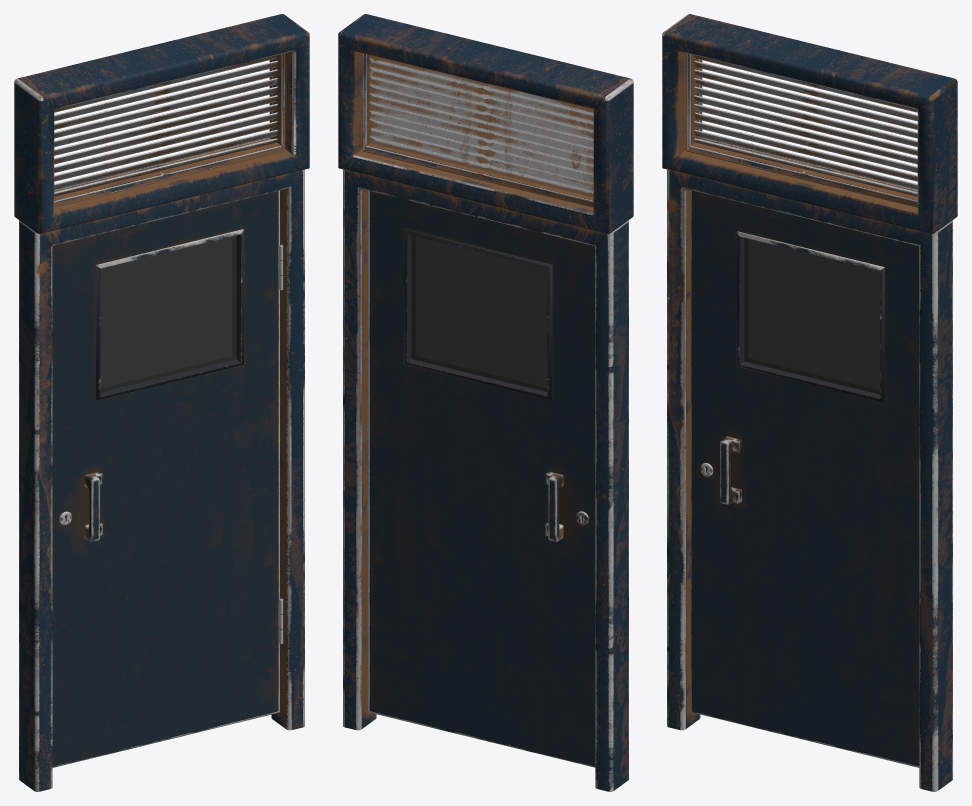
The model's file is SingleDoor.fbx.
3 renders of one model, left to right at view 1: azimuth 30°, elevation 25°; view 2: azimuth 150°, elevation 25°; view 3: azimuth 330°, elevation 25°, orthographic.
Visible parts, largest first — view 1: DoorLeaf, Frame; view 2: DoorLeaf, Frame; view 3: DoorLeaf, Frame.
Boxes of the visible parts, x1=… form: DoorLeaf: x1=52, y1=190, x2=279, y2=767; Frame: x1=14, y1=14, x2=309, y2=791; DoorLeaf: x1=368, y1=190, x2=595, y2=767; Frame: x1=338, y1=14, x2=633, y2=791; DoorLeaf: x1=691, y1=190, x2=919, y2=767; Frame: x1=662, y1=14, x2=957, y2=791.
Size of the model in its own units: 1.26 by 3.1 by 0.2205.
